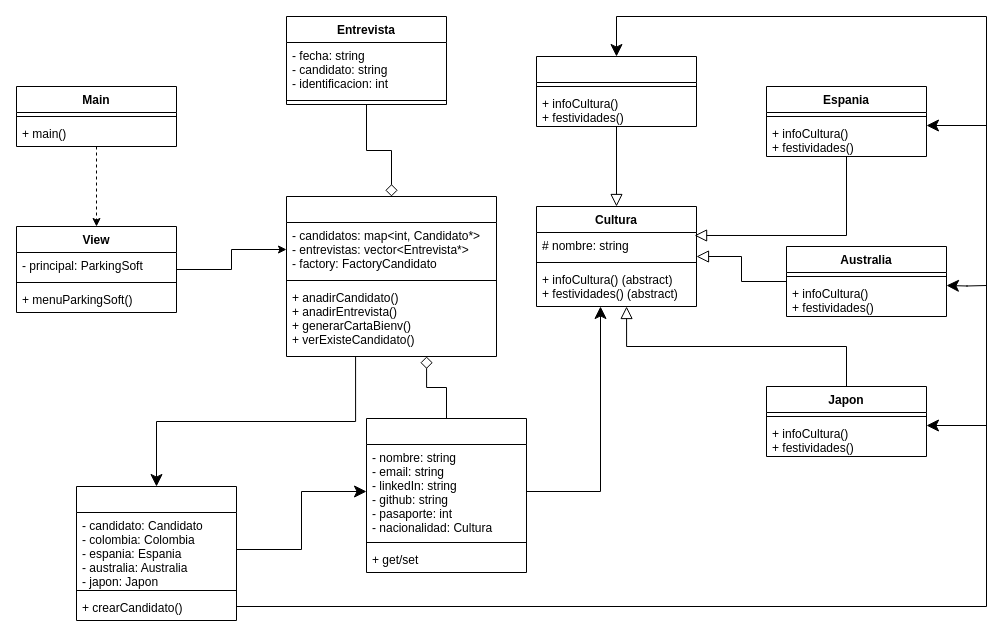
Some shapes in this 1003 by 637 pixel diagram are drawn without their labels. The box of each missing label's shape, as (x1, y1, x2, y2) in pixels:
Candidato: (366, 418, 526, 572)
Colombia: (536, 56, 696, 126)
Factory Candidato: (76, 486, 236, 620)
ParkingSoft: (286, 196, 496, 356)
